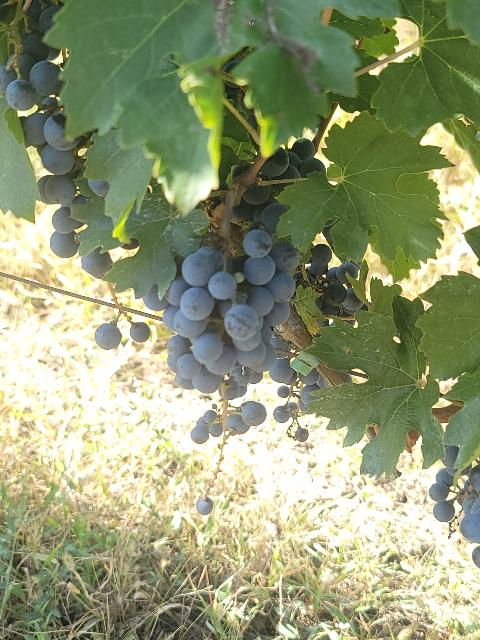grapes: (162, 230, 296, 444)
